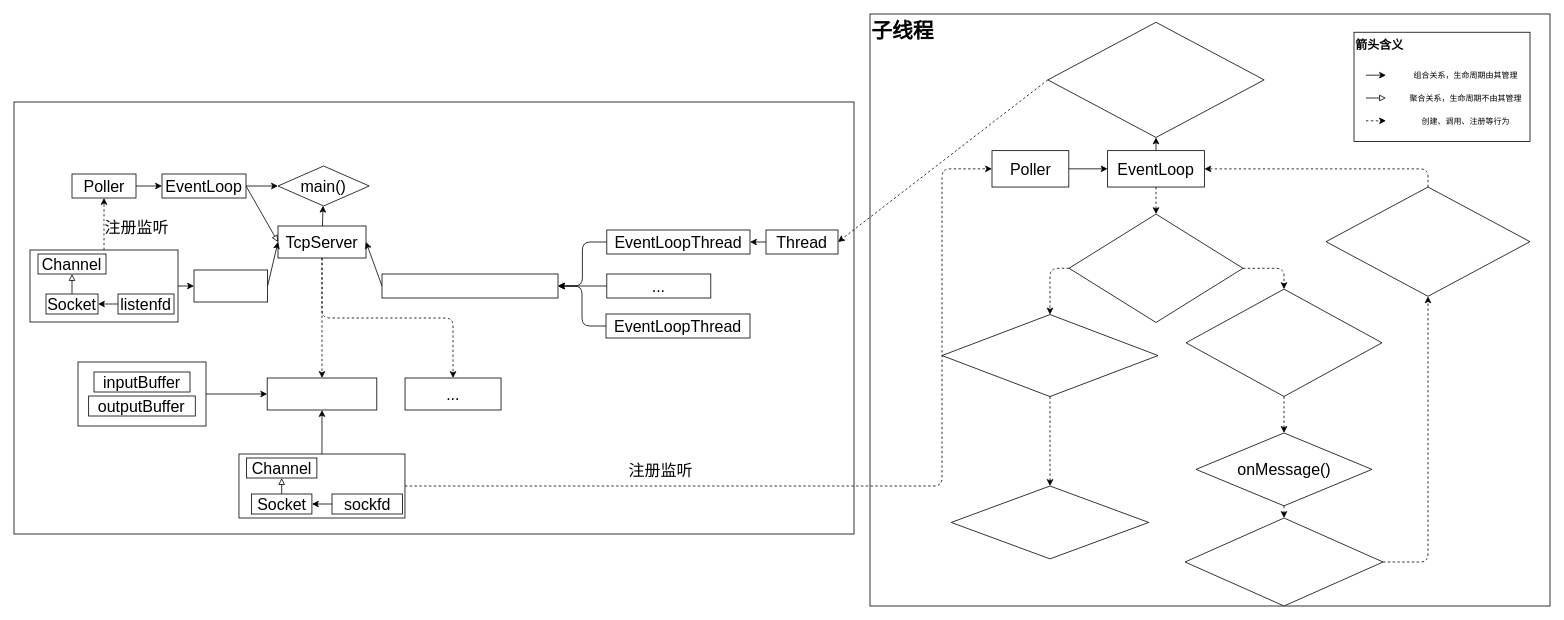
Some shapes in this 1564 by 620 pixel diagram are drawn without their labels. The box of each missing label's shape, as (x1, y1, x2, y2) in pixels:
Acceptor: (193, 269, 268, 302)
Channel:: handleEvent(): (1068, 213, 1243, 322)
EventLoopThread:: threadFunc(): (1047, 22, 1264, 137)
EventLoopThreadPool: (381, 273, 558, 298)
onWriteCpmplete(): (950, 485, 1149, 559)
TcpConnection: (266, 377, 377, 410)
TcpConnection:: handleRead(): (1185, 288, 1382, 396)
TcpConnection:: handleWrite(): (941, 314, 1158, 397)
TcpConnection:: send(): (1184, 517, 1383, 606)
TcpConnection:: sendInLoop(): (1325, 186, 1530, 296)
主线程: (13, 101, 854, 534)
